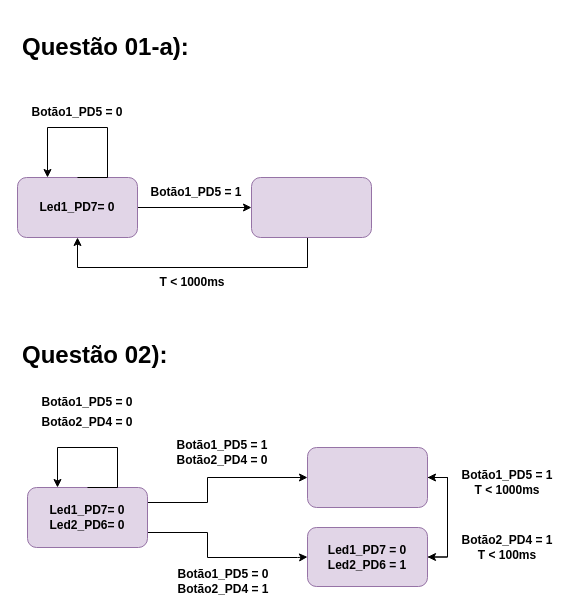
The diagram is 575 pixels wide and 613 high, and some of its shapes have lost their labels. The box of each missing label's shape, as (x1, y1, x2, y2) in pixels:
Led1_PD7 = 1: (250, 176, 372, 238)
Led1_PD7 = 1 Led2_PD6 = 0: (306, 446, 428, 508)
